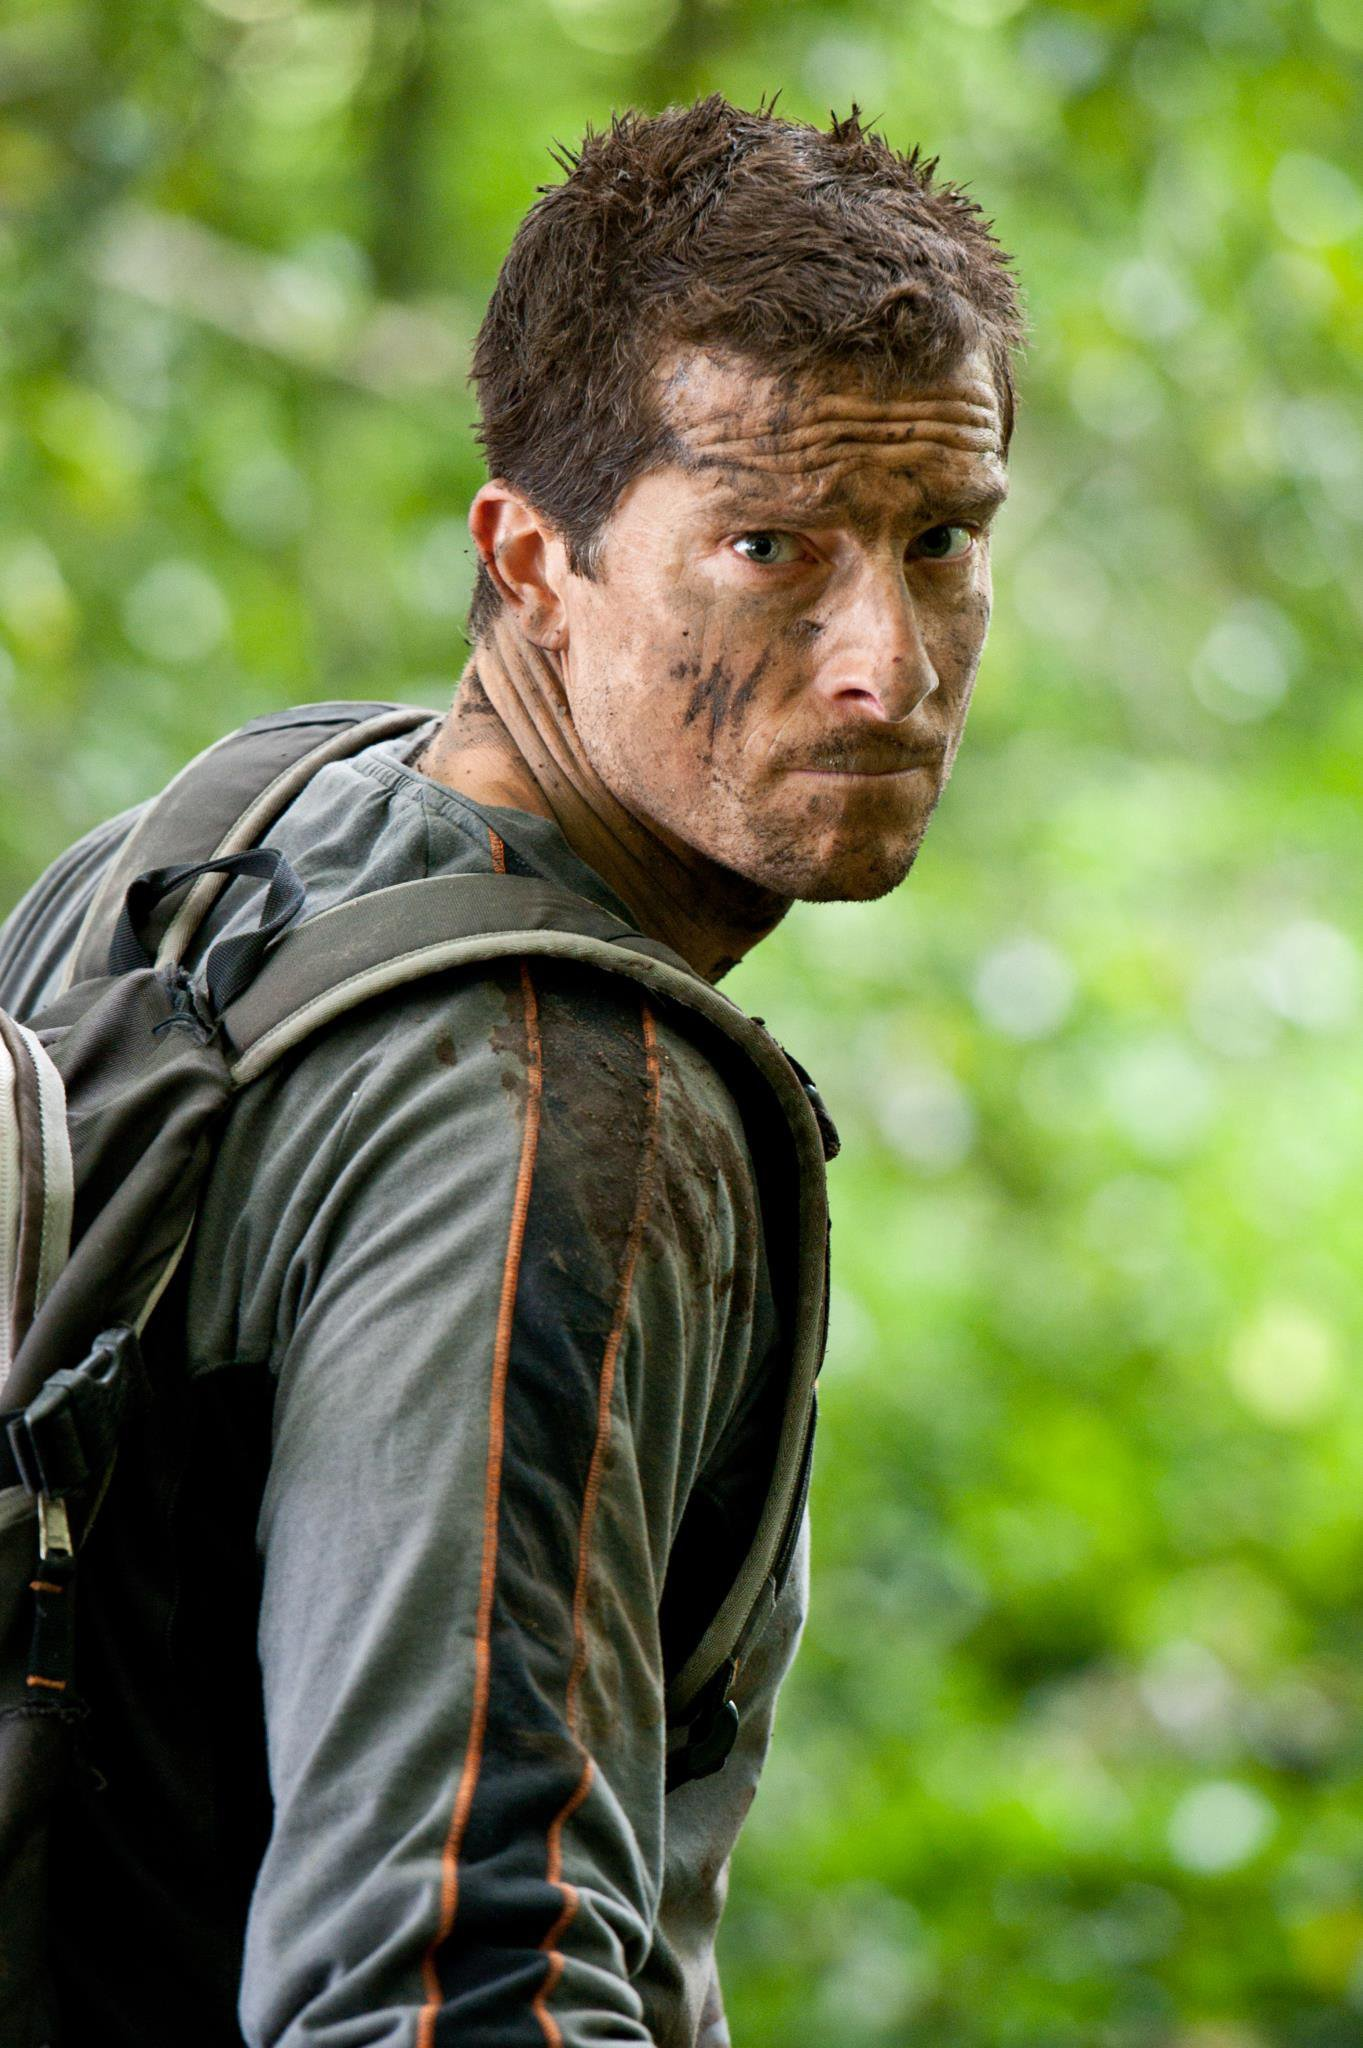noMask: (397, 69, 1092, 960)
